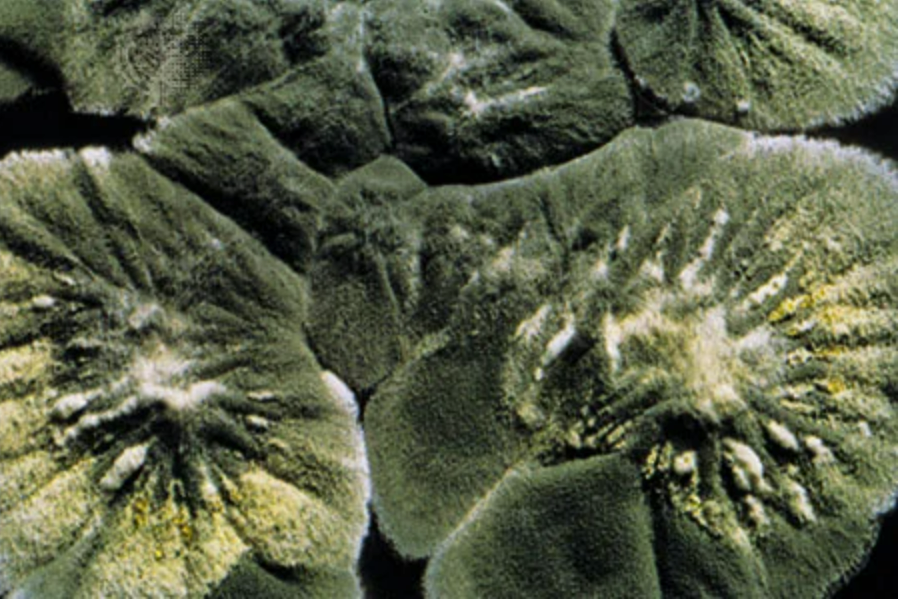Penicillium: (189, 3, 573, 257), (339, 177, 718, 416), (17, 177, 278, 469), (319, 370, 451, 512), (672, 418, 829, 524)
